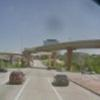cars: (9, 72, 24, 84)
